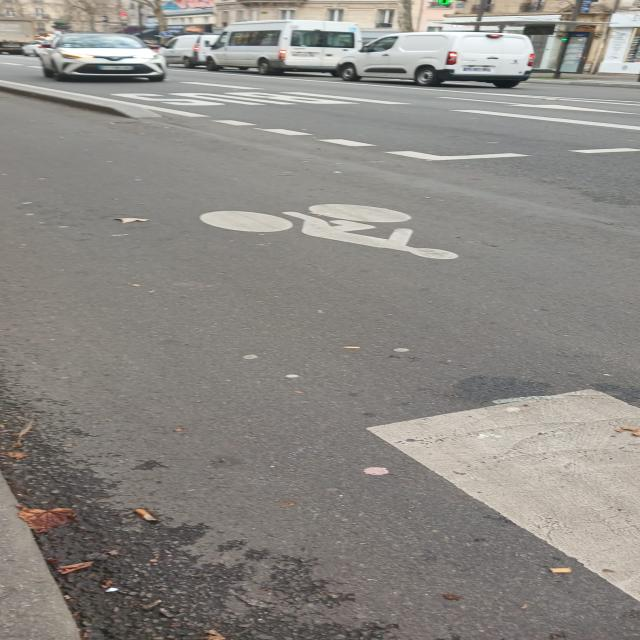Autre: (458, 63, 504, 75), (99, 62, 140, 72)
